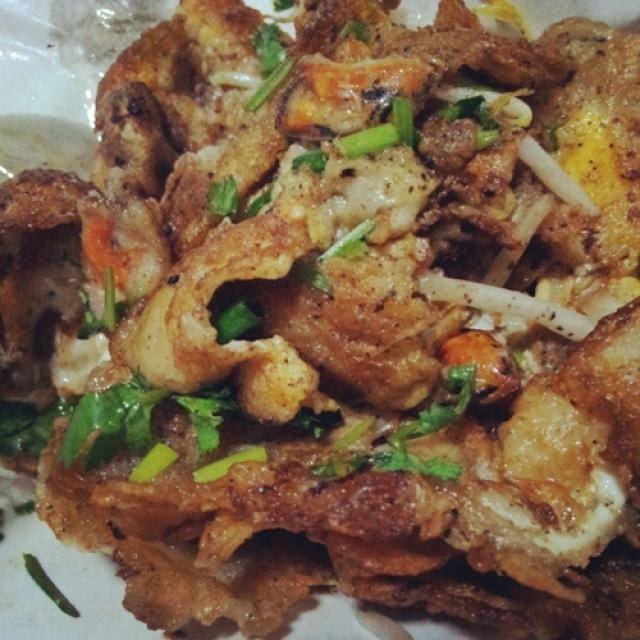炸货点心: (8, 2, 631, 628)
蛋糕甜品: (8, 2, 631, 628)
